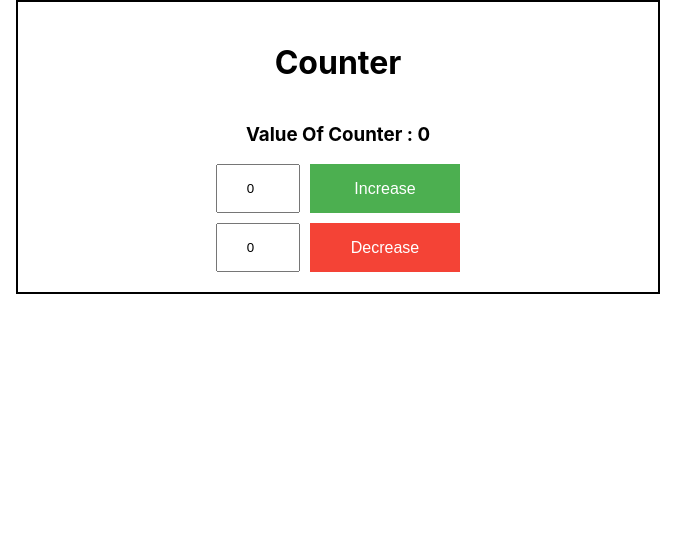
Test: counter Component › toggle warning message
Type "5" into the number field with test id "value_dec" at (258,248), box [216,223,300,272]
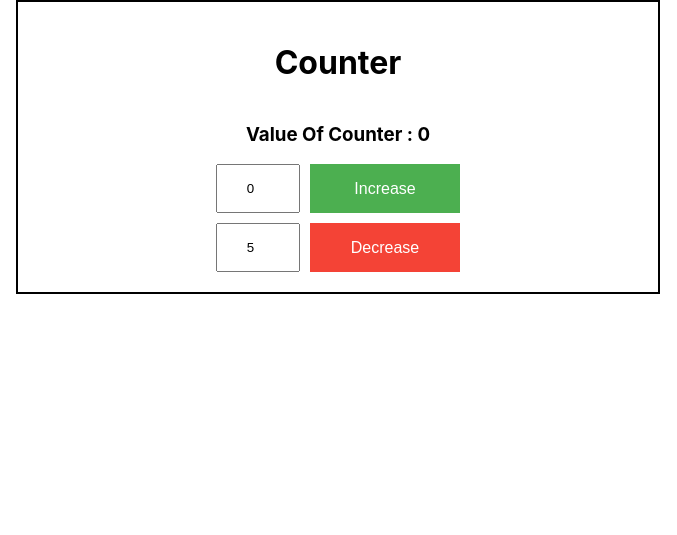
Click the button with test id "button_dec" at (385,248), box [310,223,460,272]
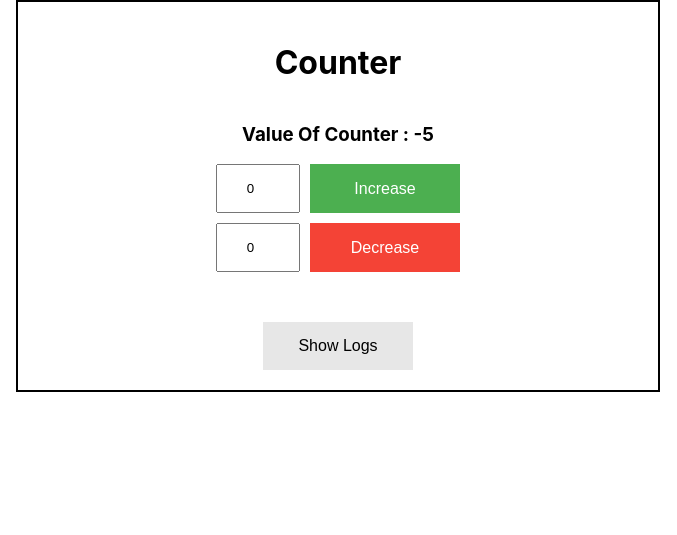
Click the button with test id "toggle-logs" at (338,346), box [263,322,413,370]
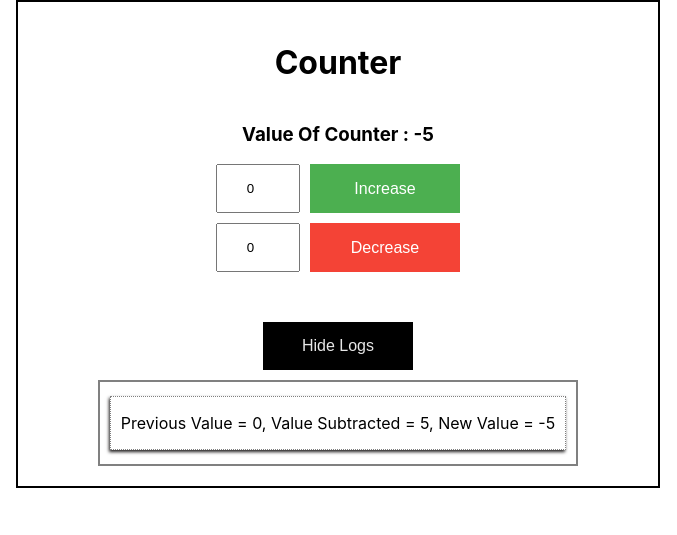
Hover over the element with test id "log_info" at (338,423), box [110,396,566,450]
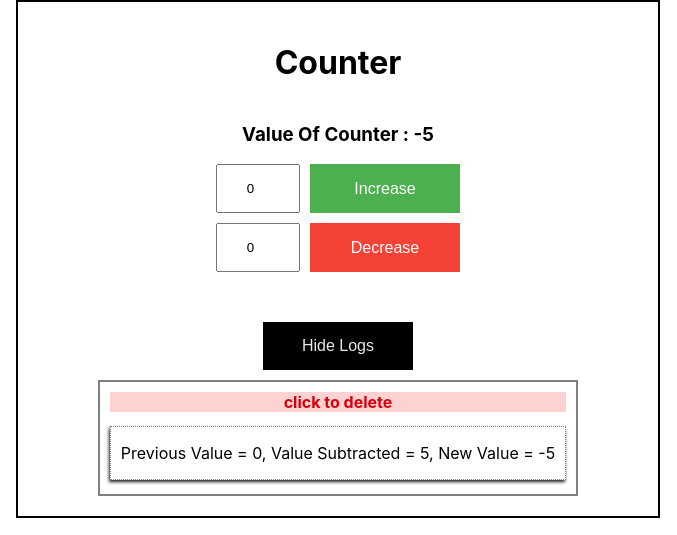
Result: the text "click to delete" is shown at [110,392,566,412]
Move the pointer off the element with test id "log_info", box [110,426,566,480]
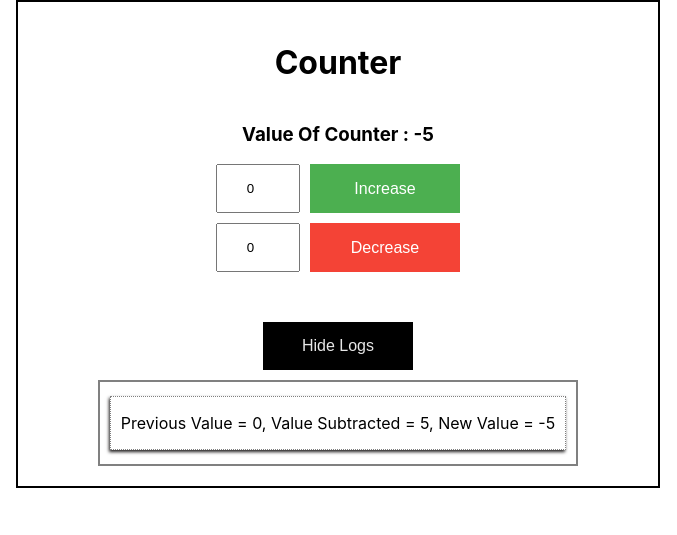
Result: the text with test id "warning-message" is gone
